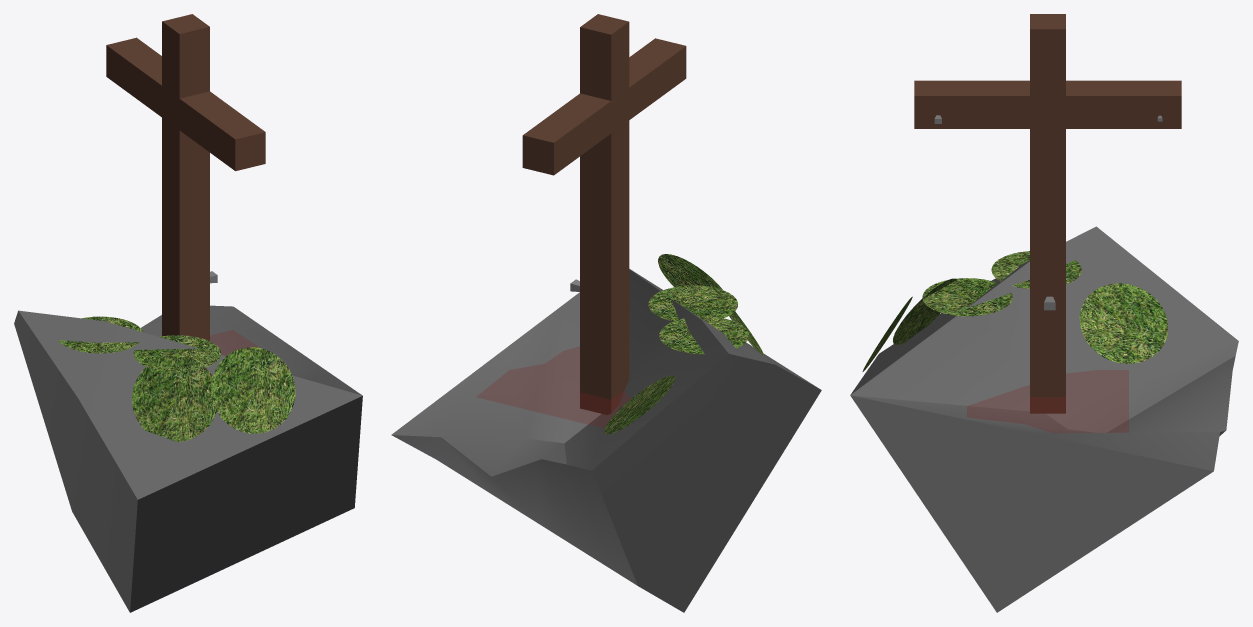
3 renders of one model, left to right at view 1: azimuth 30°, elevation 25°; view 2: azimuth 150°, elevation 25°; view 3: azimuth 270°, elevation 25°, orthographic. The views are drawn at different scales.
Parts seen in each view (by area): view 1: rock.001, Cube, Cylinder, Cylinder.004, Cylinder.003, Cylinder.001, Plane; view 2: rock.001, Cube, Plane, Cylinder.003, Cylinder.001, Cylinder.002, Cylinder; view 3: rock.001, Cube, Plane, Cylinder.002, Cylinder.003, Cylinder.004, Cylinder.001.
Boxes of the visible parts, x1,y1,x2,y2 form: rock.001: [14, 305, 362, 612]; Cube: [106, 14, 265, 340]; Cylinder: [211, 347, 295, 433]; Cylinder.004: [132, 355, 216, 441]; Cylinder.003: [133, 335, 220, 371]; Cylinder.001: [58, 316, 142, 353]; Plane: [210, 330, 258, 355]; rock.001: [391, 269, 821, 612]; Cube: [522, 14, 686, 415]; Plane: [477, 347, 629, 427]; Cylinder.003: [648, 285, 737, 321]; Cylinder.001: [659, 316, 748, 354]; Cylinder.002: [604, 375, 674, 434]; Cylinder: [658, 254, 722, 289]; rock.001: [850, 226, 1238, 612]; Cube: [914, 14, 1181, 413]; Plane: [967, 370, 1128, 432]; Cylinder.002: [1079, 283, 1168, 363]; Cylinder.003: [922, 278, 1012, 316]; Cylinder.004: [893, 278, 957, 344]; Cylinder.001: [991, 251, 1081, 288].
Bounding box in the file's own units: 7.61 × 14.23 × 8.58.
13 materials, 5 textured.
